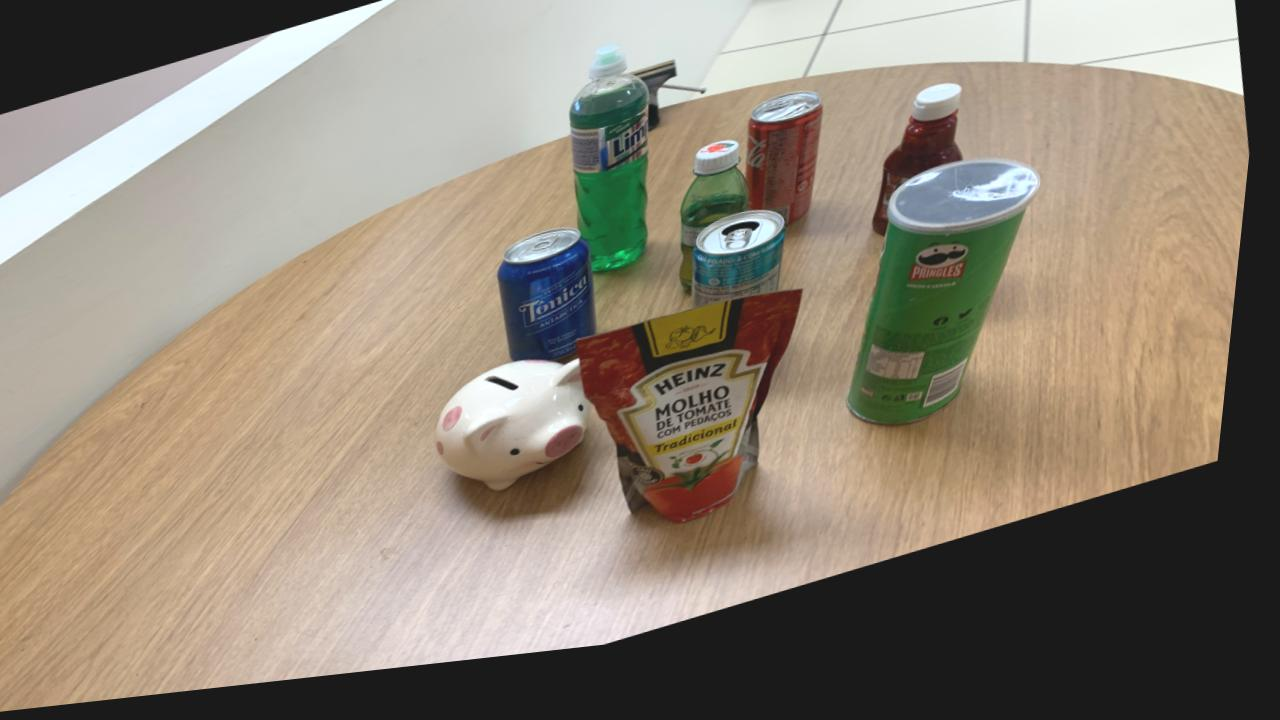Coke-Drinks: (751, 109, 827, 242)
Detergent-Cleanup_Items: (572, 58, 653, 285), (572, 87, 654, 286)
Guarana-Drinks: (686, 157, 755, 307)
Ketchup-Pantry_Items: (879, 105, 967, 257)
Pig_Safe-Miscellaneous: (443, 372, 603, 503)
Pringles-Snacks: (858, 180, 1047, 446)
Tea-Drinks: (699, 228, 792, 325)
Tomato_Sauce-Pantry_Items: (586, 308, 810, 540)
Tonic-Drinks: (505, 241, 605, 375)
